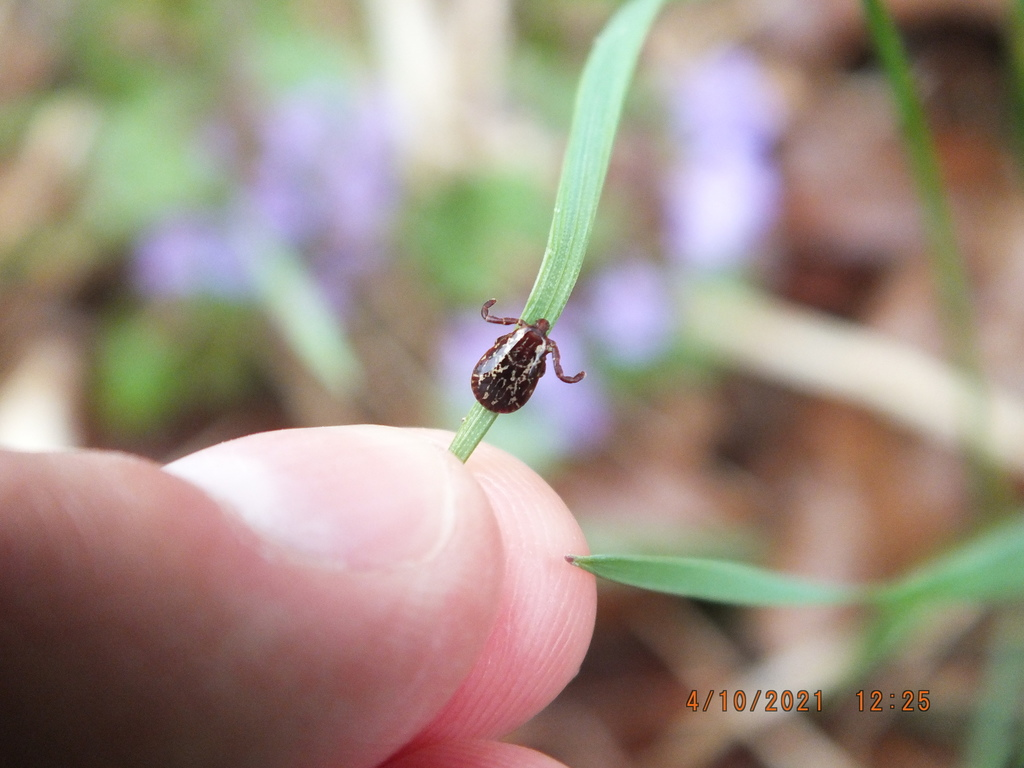garrapata: (462, 293, 589, 421)
